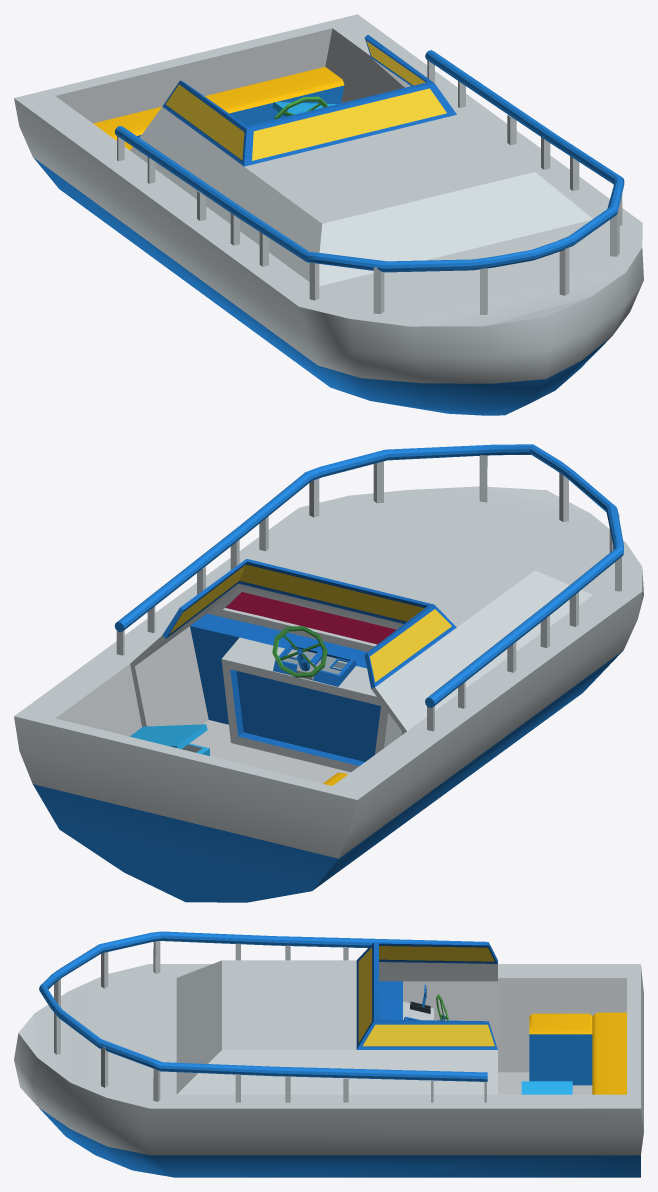
The model's file is _peed_boat.fbx.
3 views of the same model, one above another, from view 1: azimuth 30°, elevation 25°; view 2: azimuth 150°, elevation 25°; view 3: azimuth 270°, elevation 25° (orthographic). The views are drawn at different scales.
Parts seen in each view (by area): view 1: Speed_Boat; view 2: Speed_Boat; view 3: Speed_Boat.
Part boxes in pixels (x1,y1,x2,y2): Speed_Boat: (14,14,643,415); Speed_Boat: (14,444,643,902); Speed_Boat: (14,931,643,1177).
Size of the model in its own units: 35.65 by 20.58 by 65.66.
